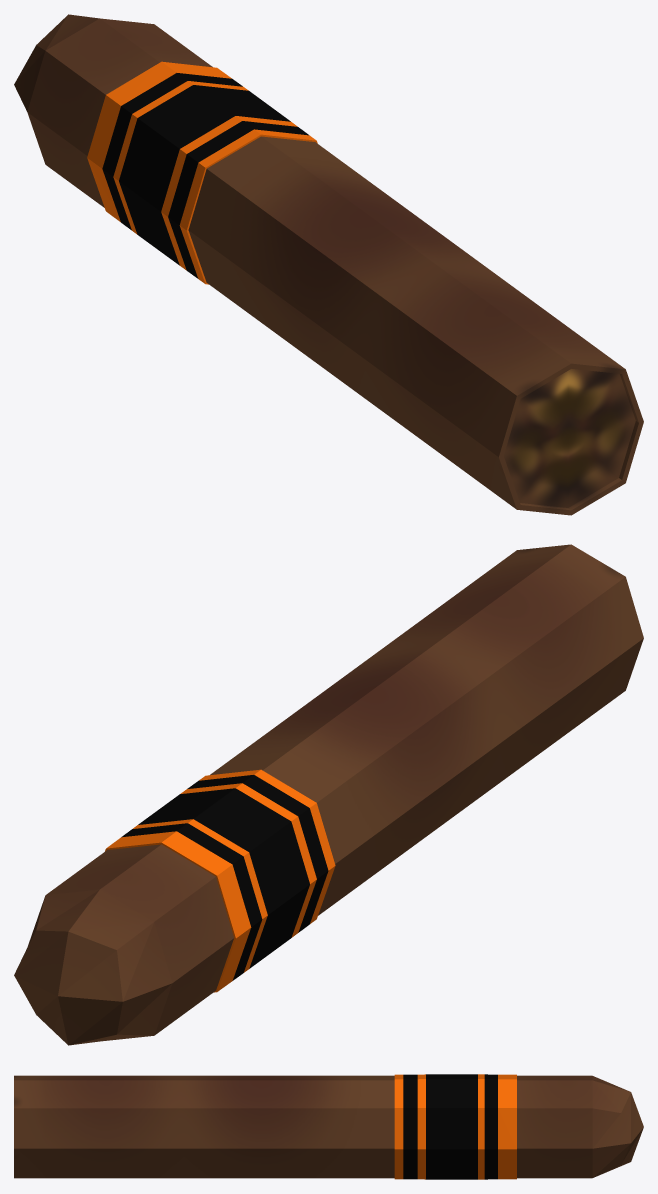
File: cigar.obj
3 views of the same model, one above another, from view 1: azimuth 30°, elevation 25°; view 2: azimuth 150°, elevation 25°; view 3: azimuth 270°, elevation 25° (orthographic). The views are drawn at different scales.
Bounding box in the file's own units: 1.03 × 1.03 × 6.12.
3 materials, 1 textured.
